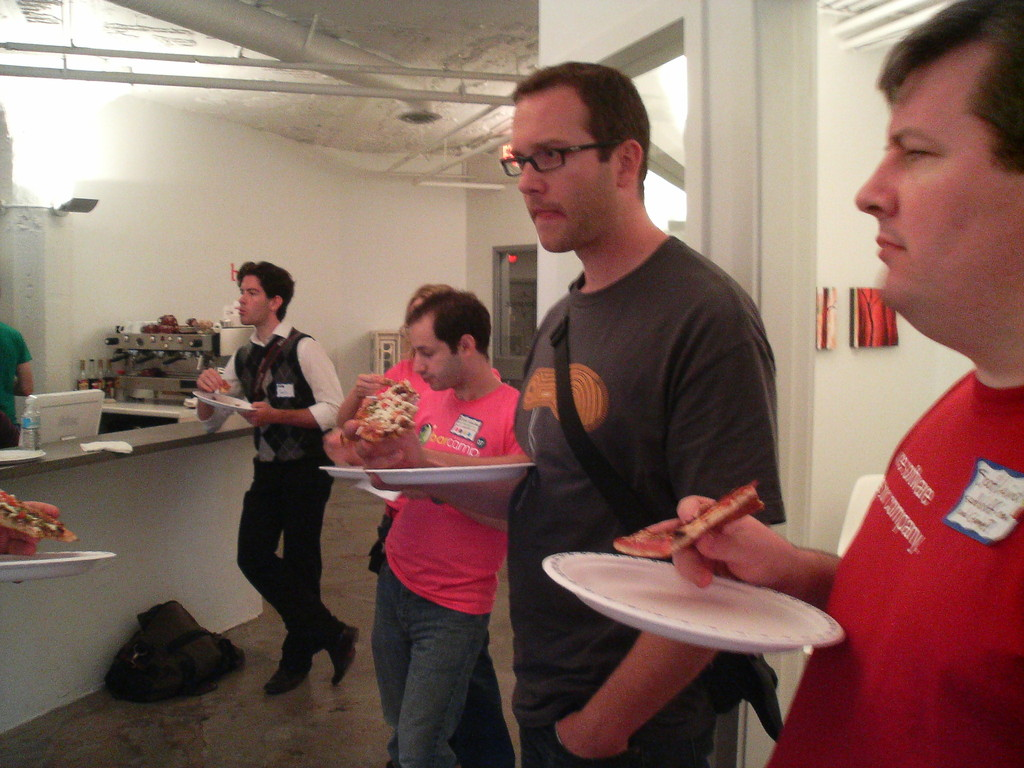Pizza: (608, 478, 767, 561), (358, 381, 436, 449), (0, 487, 83, 542)
